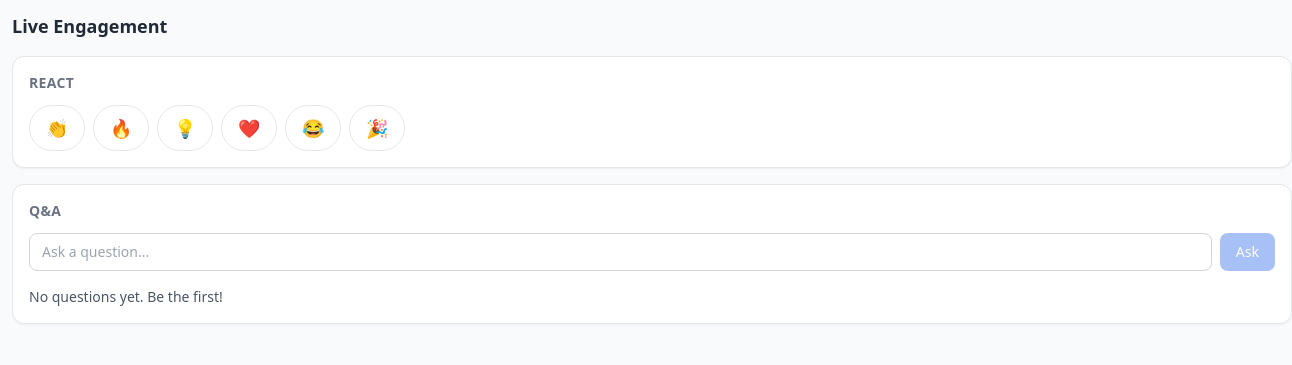
Test: <EngagementWall /> › surfaces an error message when reaction write fails
The width and height of the screenshot is (1292, 365).
Click the button named "react with fire" at (121, 128), box [93,105,149,151]
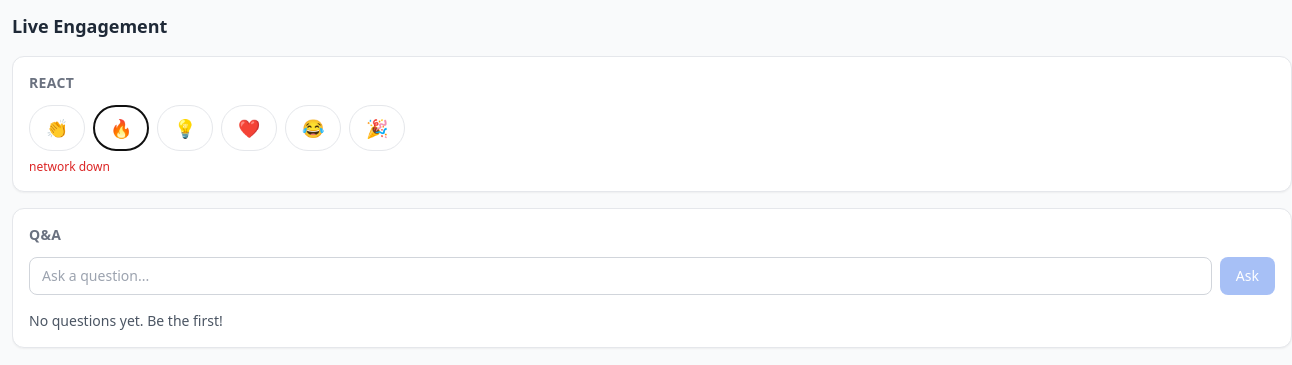
expect the message reads "network down": met, box [29,158,110,175]
